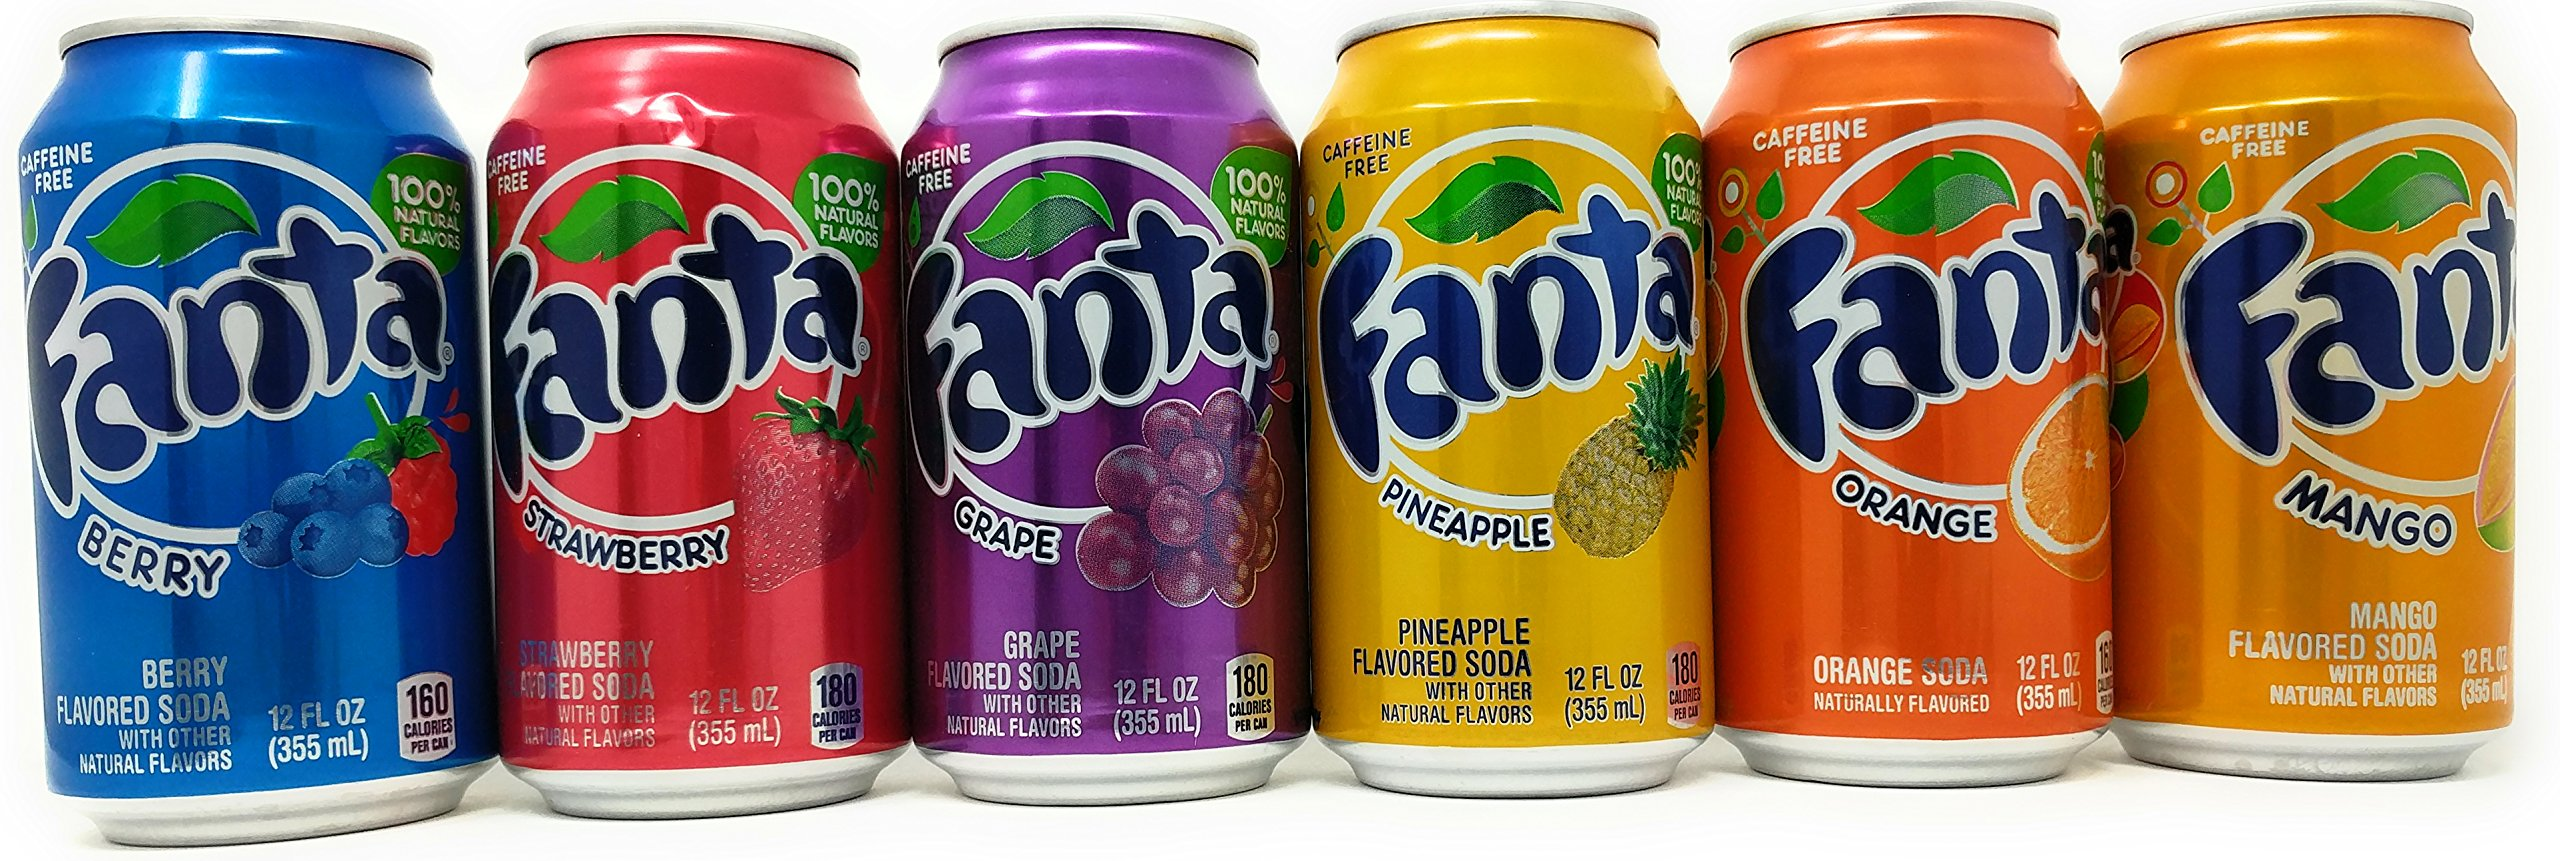Fanta: (1332, 33, 1701, 758), (2144, 31, 2511, 756), (1727, 2, 2095, 725)
